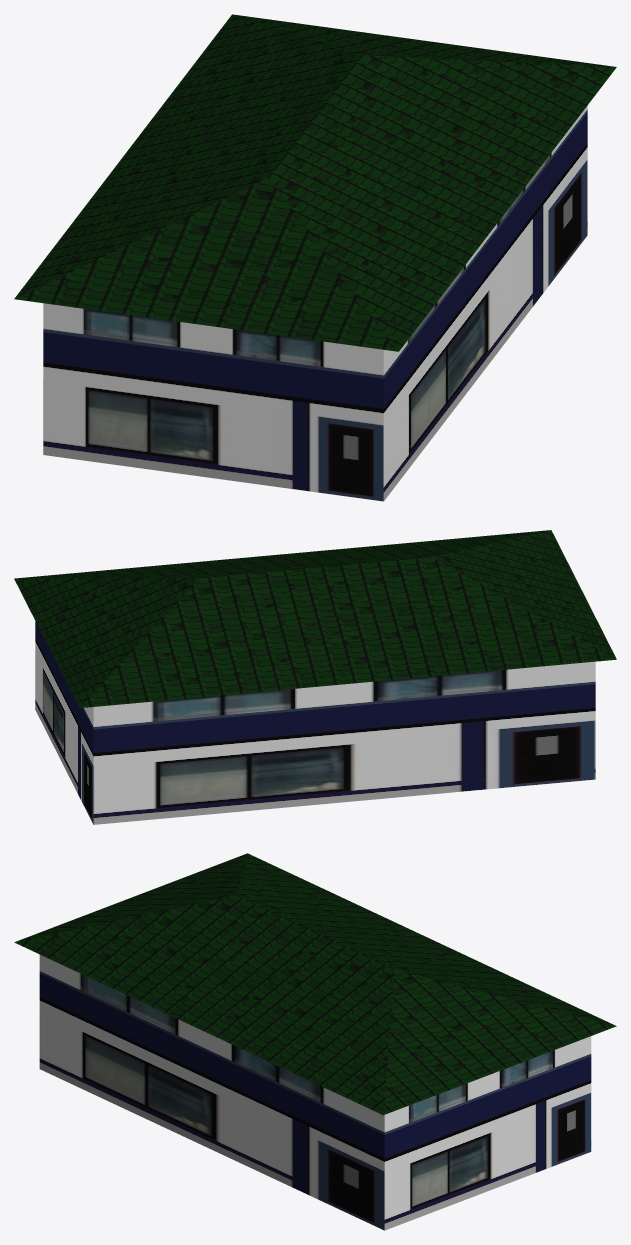
3 views of the same model, one above another, from view 1: azimuth 30°, elevation 25°; view 2: azimuth 150°, elevation 25°; view 3: azimuth 270°, elevation 25° (orthographic). The views are drawn at different scales.
Visible parts, largest first — view 1: CityEngineMaterial_13_m, CityEngineMaterial_2_m; view 2: CityEngineMaterial_13_m, CityEngineMaterial_2_m; view 3: CityEngineMaterial_13_m, CityEngineMaterial_2_m.
Boxes of the visible parts, x1,y1,x2,y2 form: CityEngineMaterial_13_m: [14, 14, 616, 351]; CityEngineMaterial_2_m: [43, 106, 587, 501]; CityEngineMaterial_13_m: [14, 530, 616, 708]; CityEngineMaterial_2_m: [35, 621, 595, 824]; CityEngineMaterial_13_m: [14, 853, 616, 1115]; CityEngineMaterial_2_m: [39, 954, 591, 1230].
Size of the model in its own units: 32.09 by 10.17 by 31.2.
